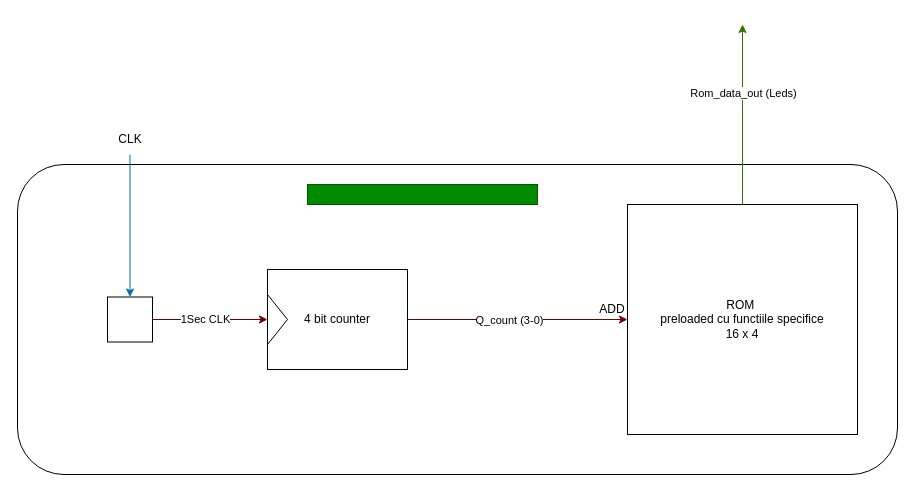
The diagram is 915 pixels wide and 492 high, and some of its shapes have lost their labels. The box of each missing label's shape, as (x1, y1, x2, y2) in pixels:
CLK div: (106, 296, 152, 342)
Top _ Level ex2: (306, 184, 538, 204)
